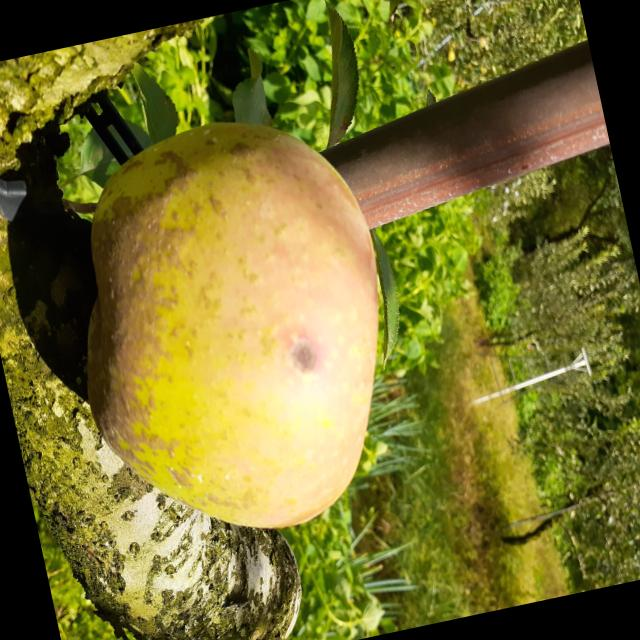rotten: (34, 86, 434, 568)
